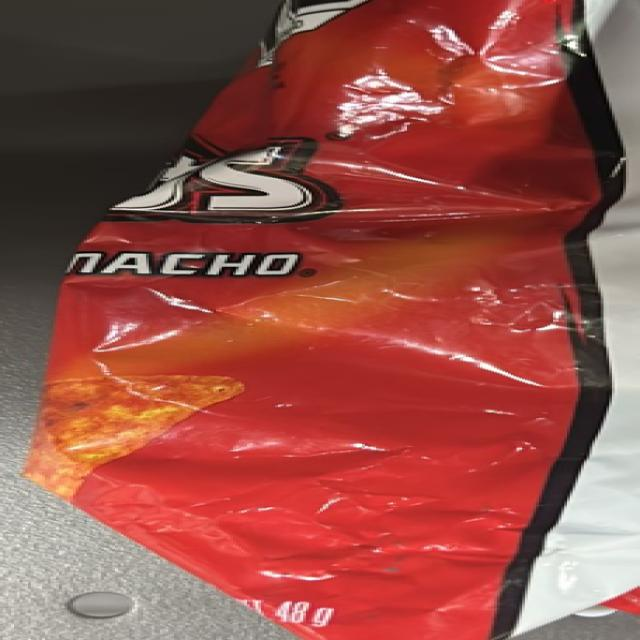doritosNacho: (54, 120, 536, 551)
